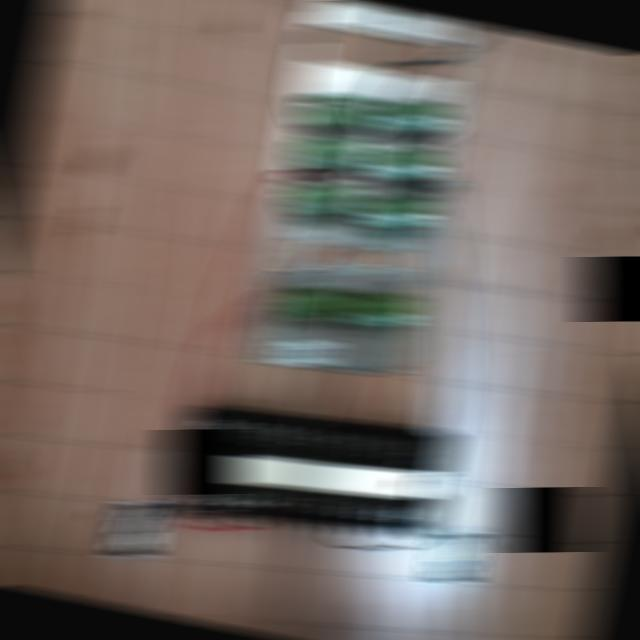Flathead_Block: (166, 409, 454, 540)
Terminal_1: (278, 281, 350, 323), (347, 290, 417, 327)
Terminal_2: (288, 179, 356, 218), (296, 132, 364, 171), (372, 144, 438, 182), (380, 97, 446, 135), (364, 192, 431, 229)
